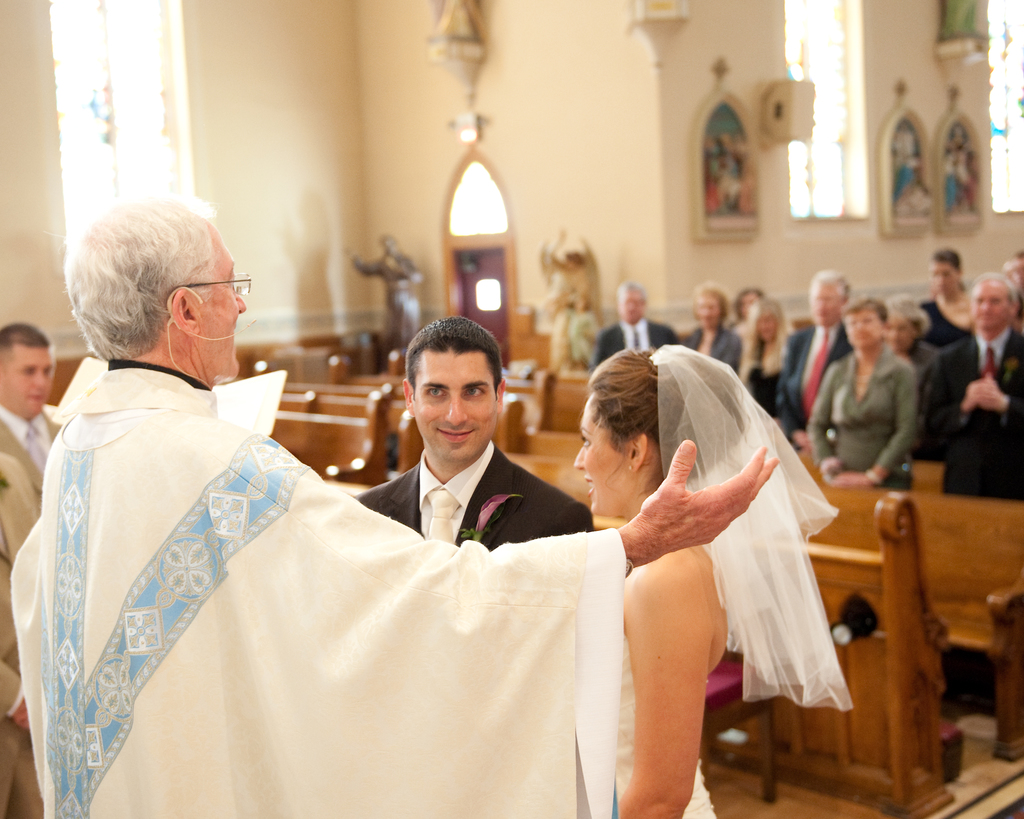Person: (573, 345, 749, 819), (0, 449, 45, 819), (331, 232, 428, 365), (0, 318, 59, 521)
